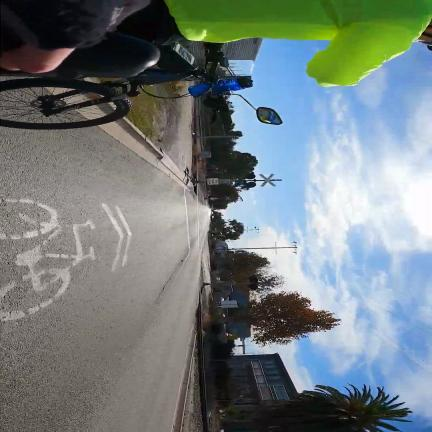Bike_Lane: (0, 129, 209, 432)
